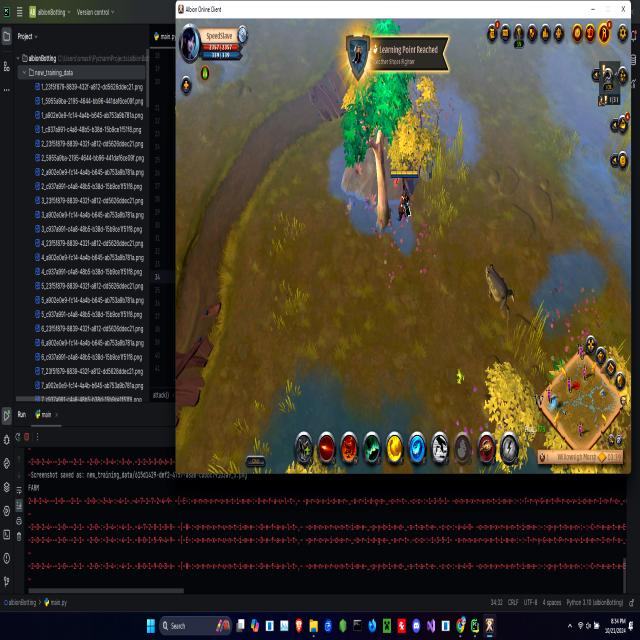ore: (481, 258, 522, 333)
red: (388, 164, 421, 234)
wisp caged: (340, 19, 417, 243)
